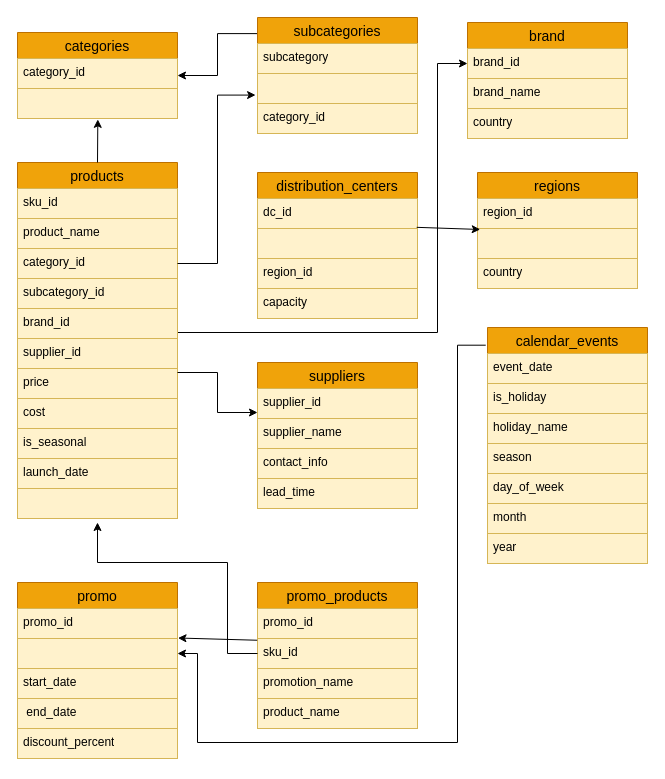
This 665x779 diagram has some shape labels left out. The centre of each missing label's shape, as x and y in pixels:
"category_name" belongs at (x=97, y=103).
"dc_name" belongs at (x=337, y=243).
"promo_name" belongs at (x=97, y=653).
"region_name" belongs at (x=557, y=243).
"subcategory_name" belongs at (x=337, y=88).
"weight" belongs at (x=97, y=503).
